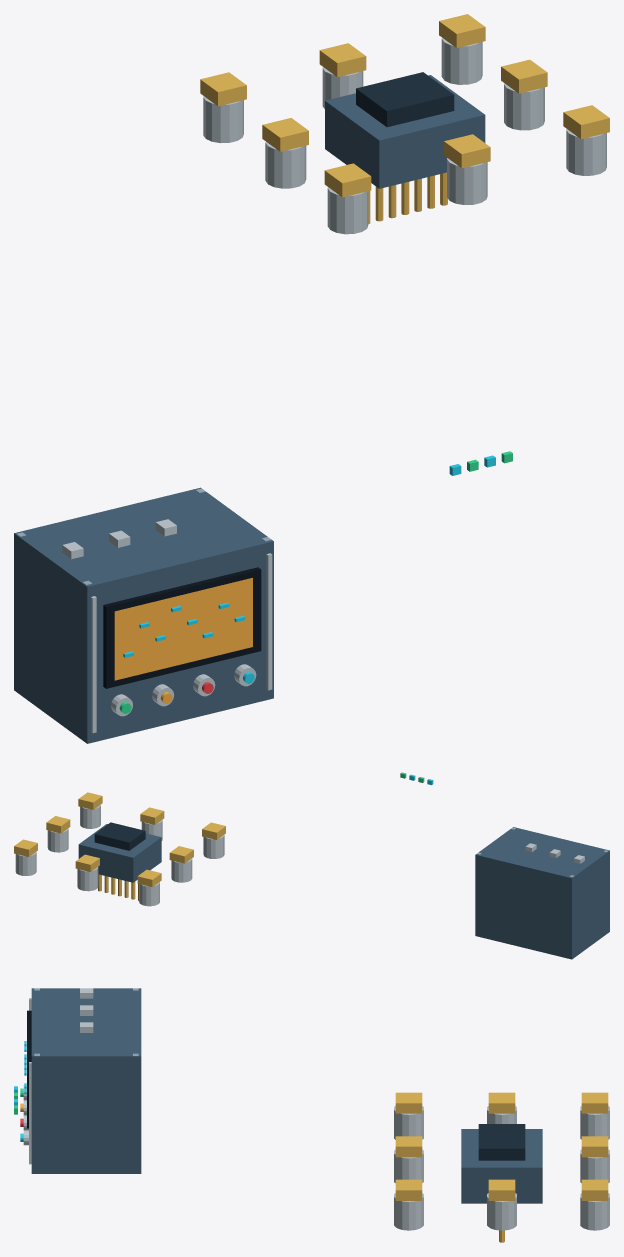
The model's file is 26_L79_BondHeadMicroforceArray.fbx.
3 views of the same model, one above another, from view 1: azimuth 30°, elevation 25°; view 2: azimuth 150°, elevation 25°; view 3: azimuth 270°, elevation 25° (orthographic). The views are drawn at different scales.
Visible parts, largest first — view 1: BondHeadMicroforceArray, BondHeadMicroforceArray_Part_0046, BondHeadMicroforceArray_Part_0054; view 2: BondHeadMicroforceArray, BondHeadMicroforceArray_Part_0046, BondHeadMicroforceArray_Part_0054; view 3: BondHeadMicroforceArray, BondHeadMicroforceArray_Part_0046, BondHeadMicroforceArray_Part_0054.
Boxes of the visible parts, box(x1,y1,x2,y2) form: BondHeadMicroforceArray: box(14, 14, 609, 743); BondHeadMicroforceArray_Part_0046: box(325, 75, 485, 188); BondHeadMicroforceArray_Part_0054: box(356, 72, 454, 127); BondHeadMicroforceArray: box(14, 772, 609, 959); BondHeadMicroforceArray_Part_0046: box(78, 824, 161, 882); BondHeadMicroforceArray_Part_0054: box(94, 822, 145, 850); BondHeadMicroforceArray: box(14, 988, 609, 1230); BondHeadMicroforceArray_Part_0046: box(461, 1129, 542, 1203); BondHeadMicroforceArray_Part_0054: box(478, 1124, 525, 1160).
Bounding box in the file's own units: 400 × 133 × 359.
